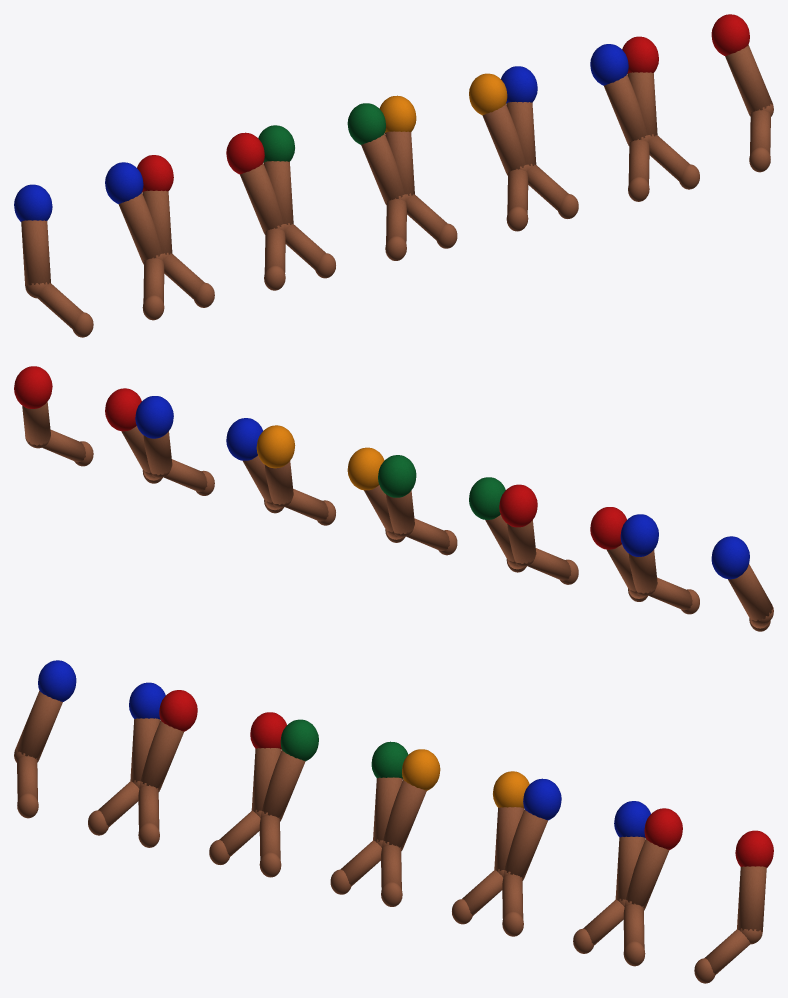
Rendered from Brazos_Espectadores.obj.
3 views of the same model, one above another, from view 1: azimuth 30°, elevation 25°; view 2: azimuth 150°, elevation 25°; view 3: azimuth 330°, elevation 25° (orthographic).
Parts seen in each view (by area): view 1: Brazos_Espectadores; view 2: Brazos_Espectadores; view 3: Brazos_Espectadores.
Part boxes in pixels (box(x1,y1,x2,y2)): Brazos_Espectadores: box(14, 14, 773, 337); Brazos_Espectadores: box(14, 366, 773, 631); Brazos_Espectadores: box(14, 660, 773, 983).
Bounding box in the file's own units: 2.95 × 0.47 × 0.375.
